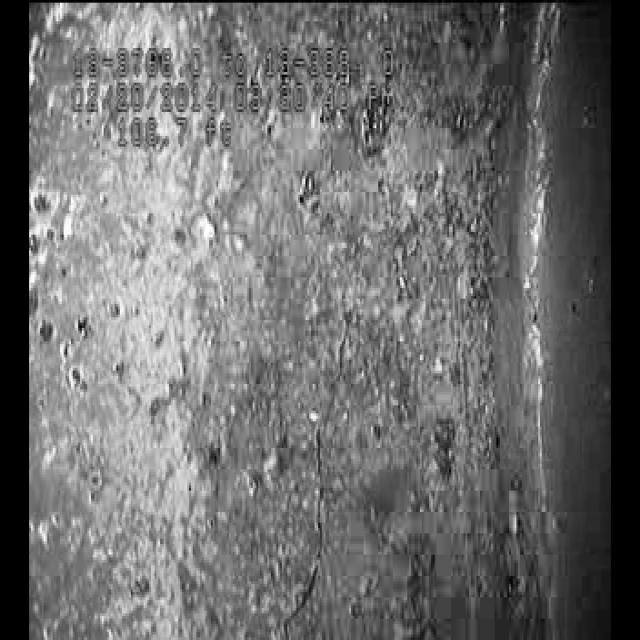Crack: (270, 181, 376, 601)
